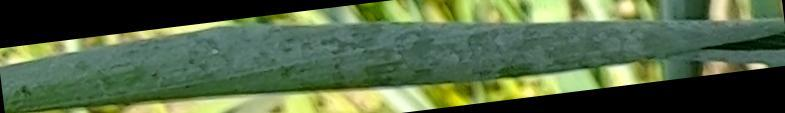Wheat: (27, 33, 305, 111), (307, 30, 518, 83), (531, 25, 704, 69)
